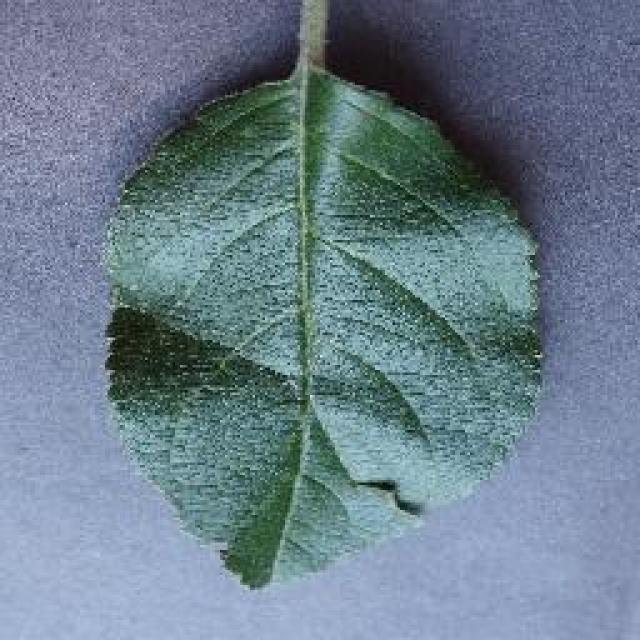apple healthy: (98, 0, 550, 590)
